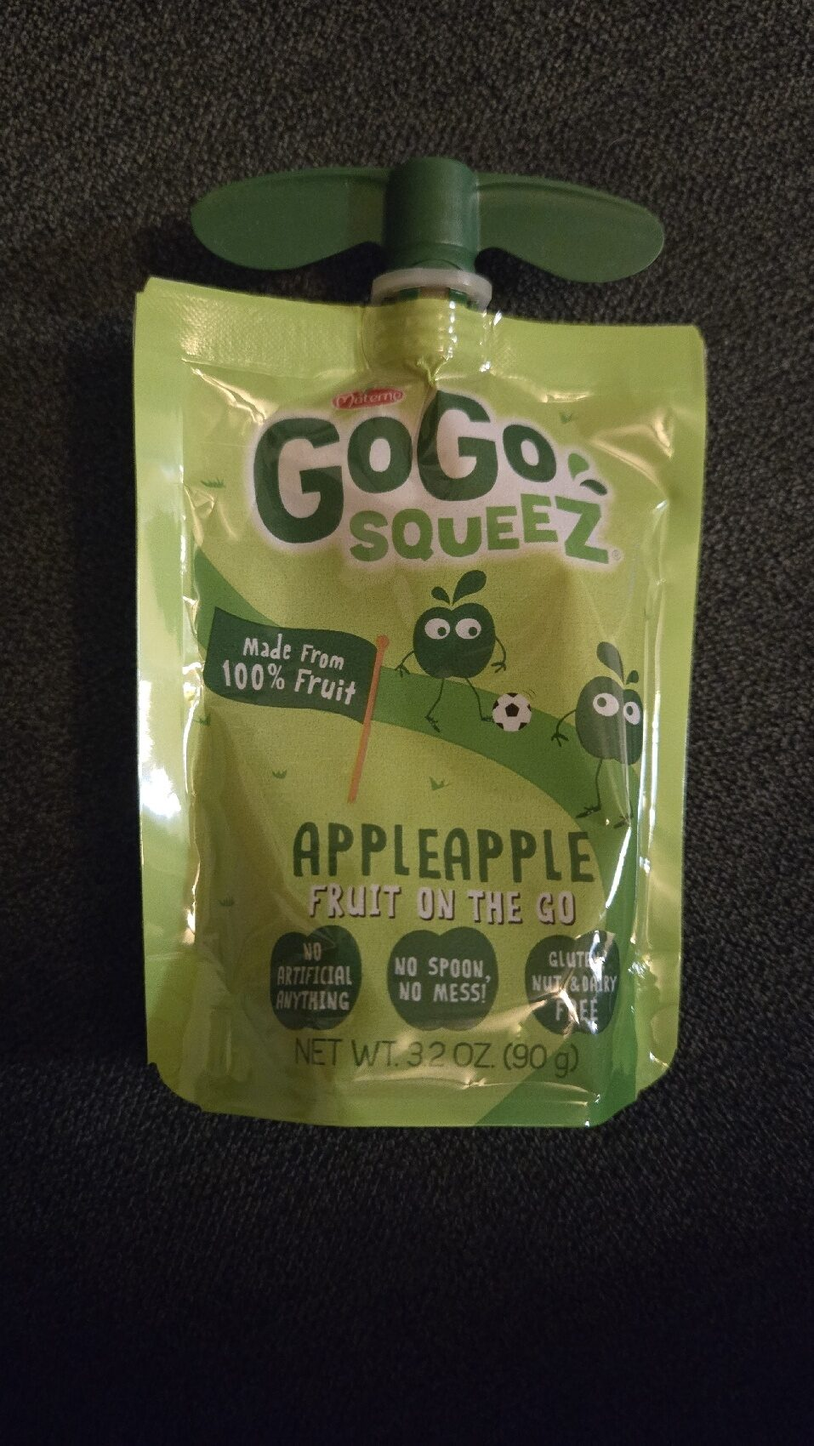APPLE APPLE: (41, 72, 773, 1374)
